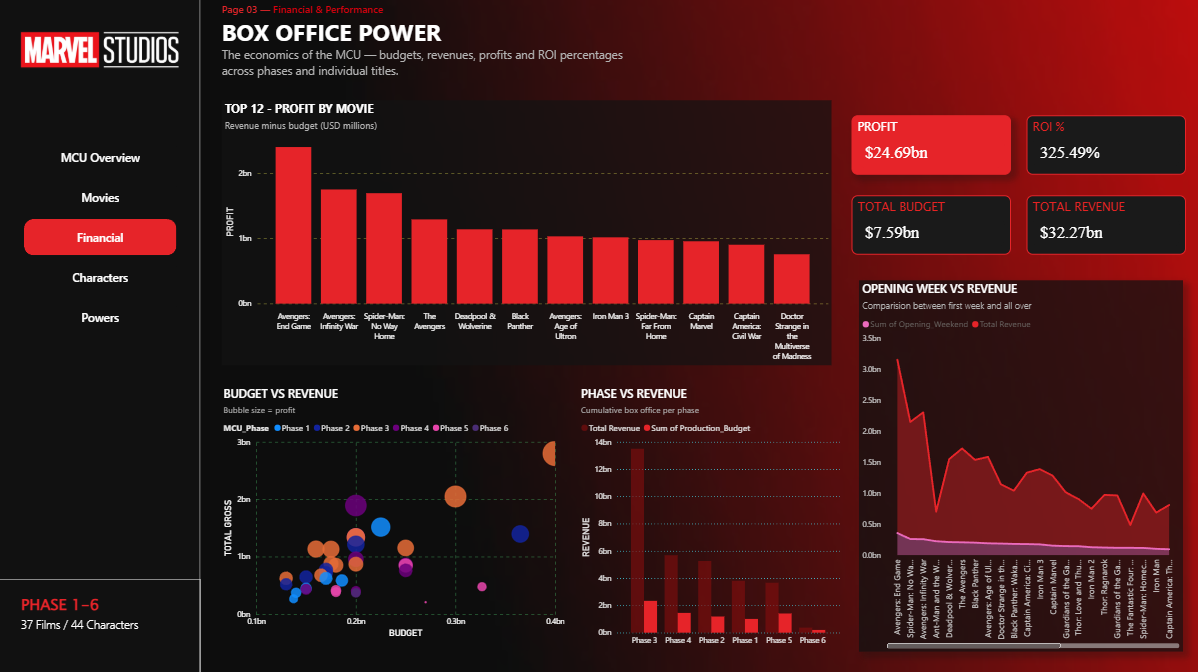

The page's visual inventory and layout, read from the dashboard file:
{"tool":"powerbi","page":{"name":"Financial","canvas":[1920,1080],"ordinal":2},"visuals":[{"type":"cardVisual","title":"TOTAL BUDGET","fields":{"Data":["Sum(mcu_box_office.Production_Budget)"]},"box":[1364,313.5,255,95],"z":0},{"type":"shape","box":[0,0,322,1080],"z":1000},{"type":"pageNavigator","box":[40,224,244,316],"z":2000},{"type":"textbox","box":[0,928,322,152],"z":3000},{"type":"textbox","box":[322.5,0,1597.5,142.5],"z":4000},{"type":"cardVisual","title":"TOTAL REVENUE","fields":{"Data":["Sum(mcu_box_office.Worldwide_box_office USD($))"]},"box":[1644,313.5,255,95],"z":5000},{"type":"cardVisual","title":"PROFIT","fields":{"Data":["mcu_box_office.Profit"]},"box":[1364,186,255,95],"z":6000},{"type":"cardVisual","title":"ROI %","fields":{"Data":["mcu_box_office.ROI %"]},"box":[1644,186,255,95],"z":7000},{"type":"clusteredColumnChart","title":"TOP 12 - PROFIT BY MOVIE","fields":{"Category":["mcu_box_office.Movie_Title"],"Y":["mcu_box_office.Profit"]},"box":[356,162,976,424],"z":8000},{"type":"scatterChart","title":"BUDGET VS REVENUE","fields":{"X":["Sum(mcu_box_office.Production_Budget)"],"Y":["Sum(mcu_box_office.Worldwide_box_office USD($))"],"Size":["mcu_box_office.Profit"],"Series":["mcu_box_office.MCU_Phase"],"Category":["mcu_box_office.Movie_Title"]},"box":[354,618,556,410],"z":9000},{"type":"clusteredColumnChart","title":"PHASE VS REVENUE","fields":{"Category":["mcu_box_office.MCU_Phase"],"Y":["mcu_box_office.Total Revenue","Sum(mcu_box_office.Production_Budget)"]},"box":[926,618,424,426],"z":10000},{"type":"stackedAreaChart","title":"OPENING WEEK VS REVENUE","fields":{"Category":["mcu_box_office.Movie_Title"],"Y":["Sum(mcu_box_office.Opening_Weekend)","mcu_box_office.Total Revenue"]},"box":[1376,450,518,594],"z":11000},{"type":"image","box":[0,0,322.7,162.2],"z":12000}]}

Visuals, with their boxes in screenshot pixels (x1, y1, x2, y2), scaled from the page's 1920x1080 canvas onto the 1198x672 screenshot:
"TOTAL BUDGET" cardVisual: box(851, 195, 1010, 254)
shape: box(0, 0, 201, 671)
pageNavigator: box(25, 139, 177, 336)
textbox: box(0, 577, 201, 671)
textbox: box(201, 0, 1197, 89)
"TOTAL REVENUE" cardVisual: box(1026, 195, 1185, 254)
"PROFIT" cardVisual: box(851, 116, 1010, 175)
"ROI %" cardVisual: box(1026, 116, 1185, 175)
"TOP 12 - PROFIT BY MOVIE" clusteredColumnChart: box(222, 101, 831, 365)
"BUDGET VS REVENUE" scatterChart: box(221, 385, 568, 640)
"PHASE VS REVENUE" clusteredColumnChart: box(578, 385, 842, 650)
"OPENING WEEK VS REVENUE" stackedAreaChart: box(859, 280, 1182, 650)
image: box(0, 0, 201, 101)
